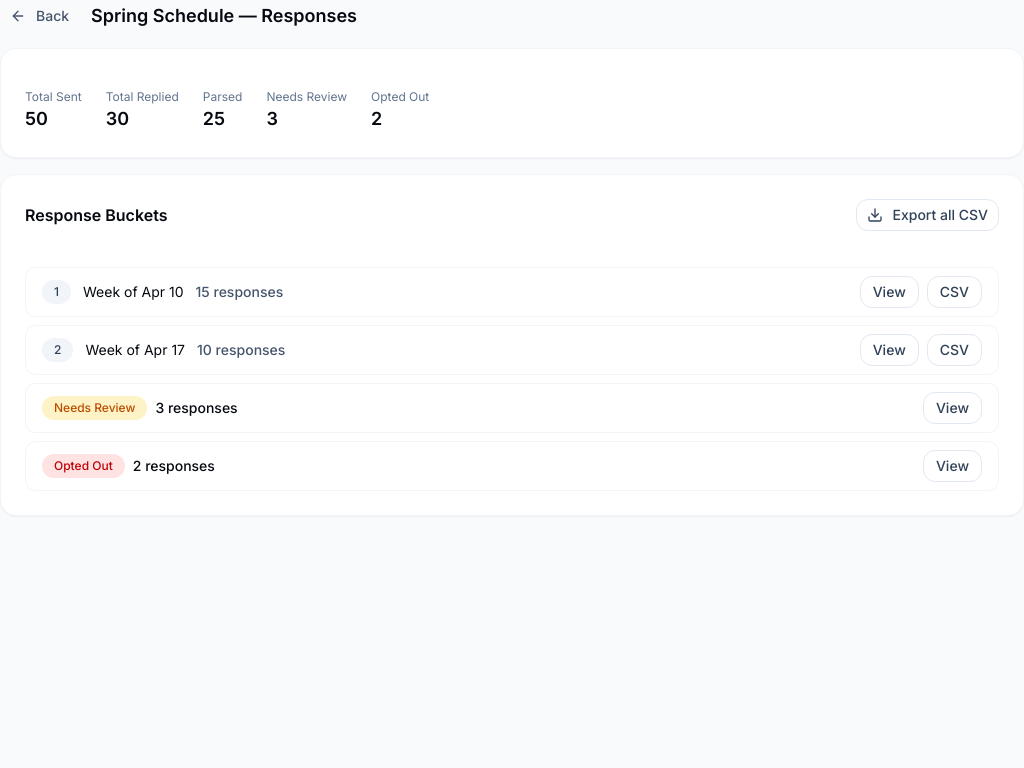
Scenario: CampaignResponsesView › opens drill-down for needs review bucket
Click the button with test id "view-needs-review-btn" at (952,408), box [923, 392, 982, 424]
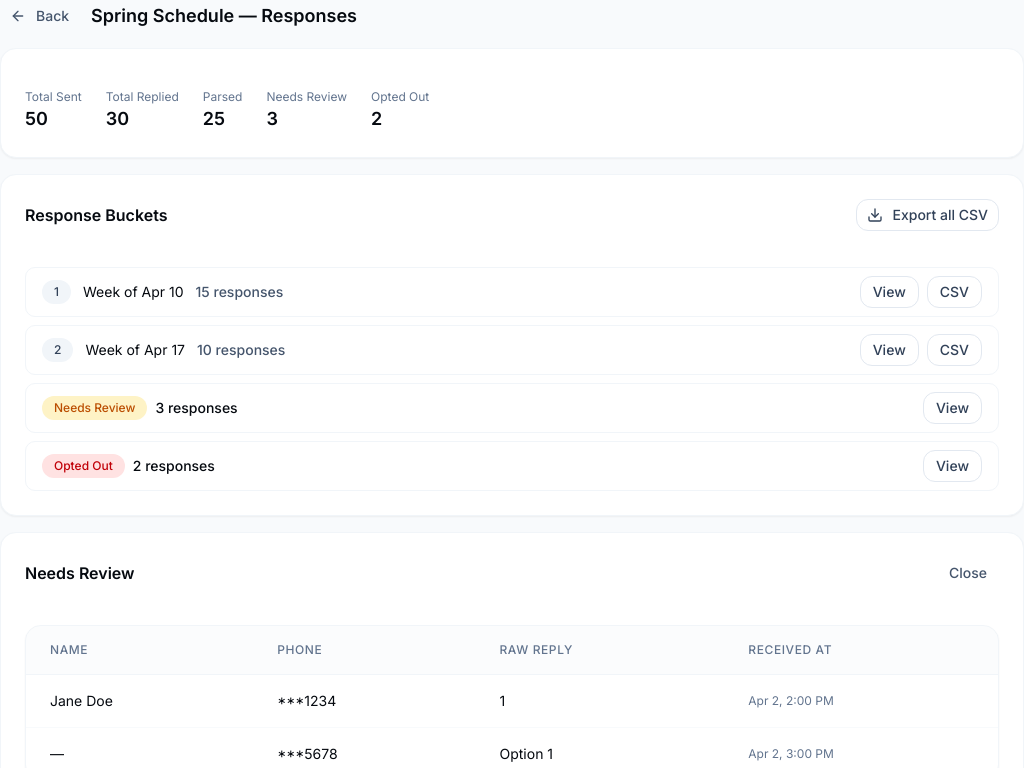
Check: the 3rd text "Needs Review" is shown, box [25, 561, 134, 585]
